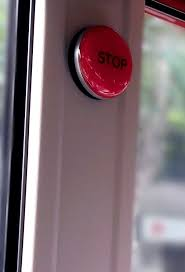bell: (67, 21, 137, 105)
